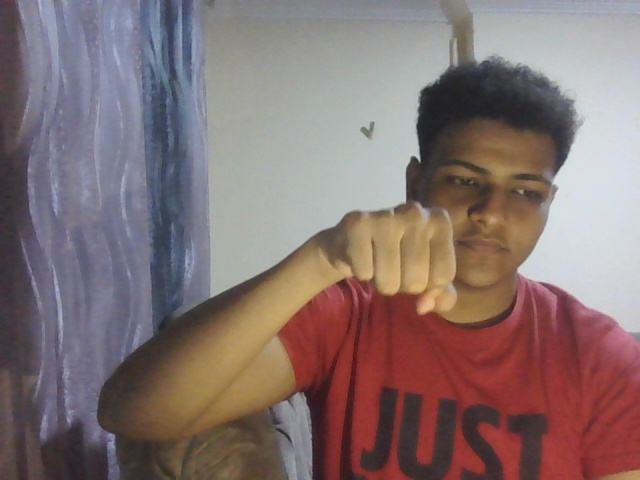yes: (320, 174, 465, 365)
